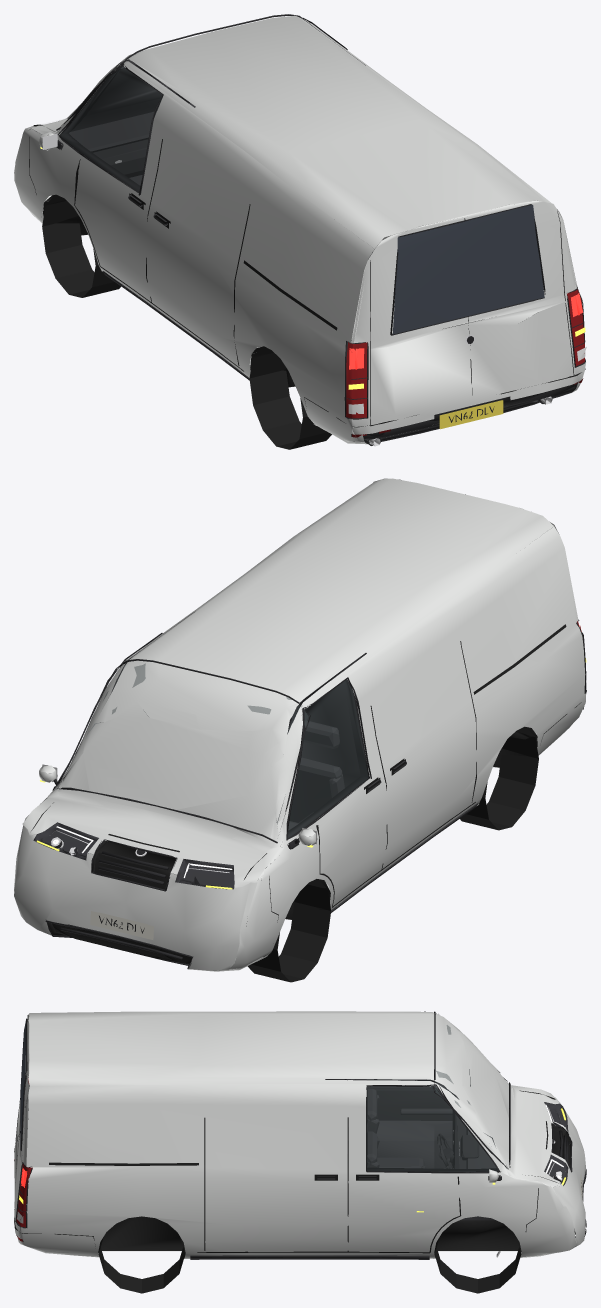
The model's file is civ_van_traffic.glb.
3 views of the same model, one above another, from view 1: azimuth 30°, elevation 25°; view 2: azimuth 150°, elevation 25°; view 3: azimuth 270°, elevation 25° (orthographic). The views are drawn at different scales.
Parts seen in each view (by area): view 1: civ_van; view 2: civ_van; view 3: civ_van.
Boxes of the visible parts, left/top/right/bottom form: civ_van: left=14, top=14, right=586, bottom=449; civ_van: left=14, top=478, right=586, bottom=982; civ_van: left=14, top=1011, right=586, bottom=1293.
Size of the model in its own units: 2.25 by 2 by 5.
